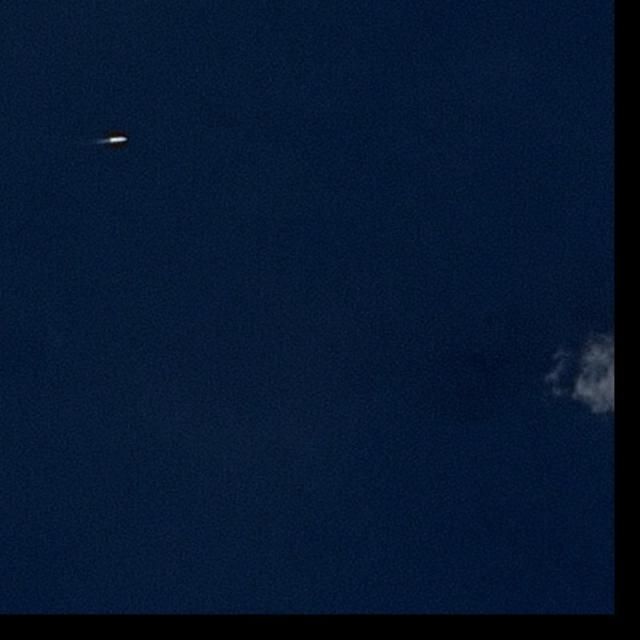ship: (110, 136, 128, 144)
